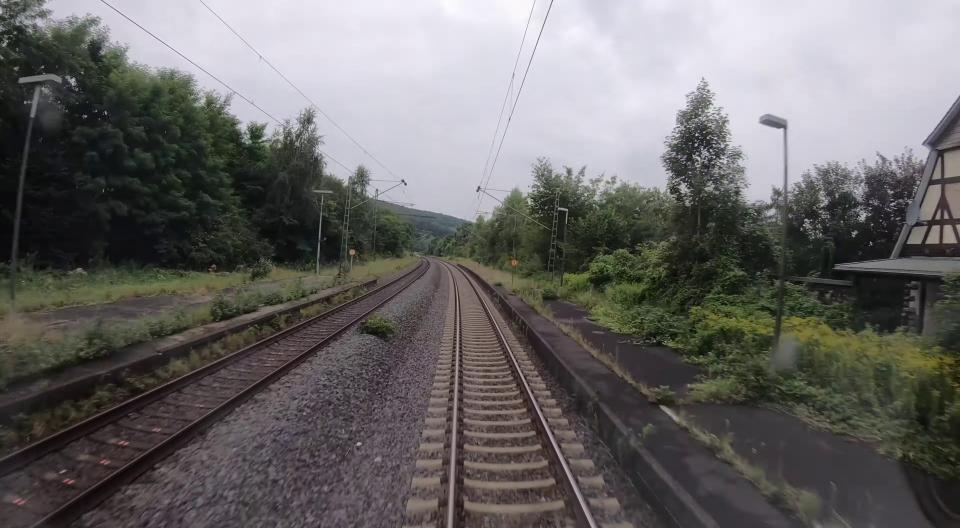Plant: (0, 304, 328, 453), (359, 313, 396, 339), (328, 286, 365, 306)
